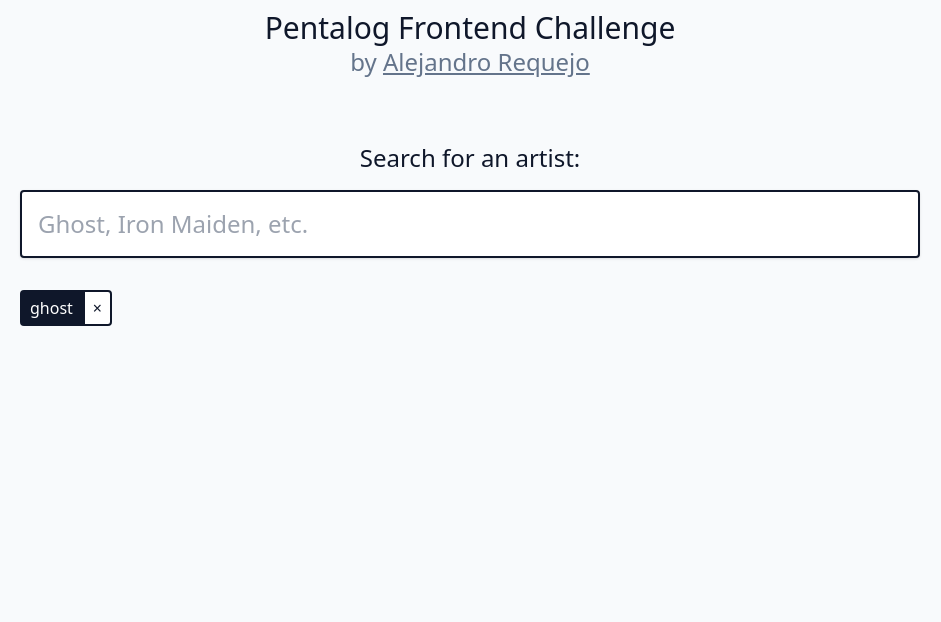
Test: <App /> › shows a message when no releases are found
This screenshot has width=941, height=622.
Type "ghost" into the field labelled "Search for an artist:" at (470, 224), box left=20, top=190, right=920, bottom=258
Then press Enter
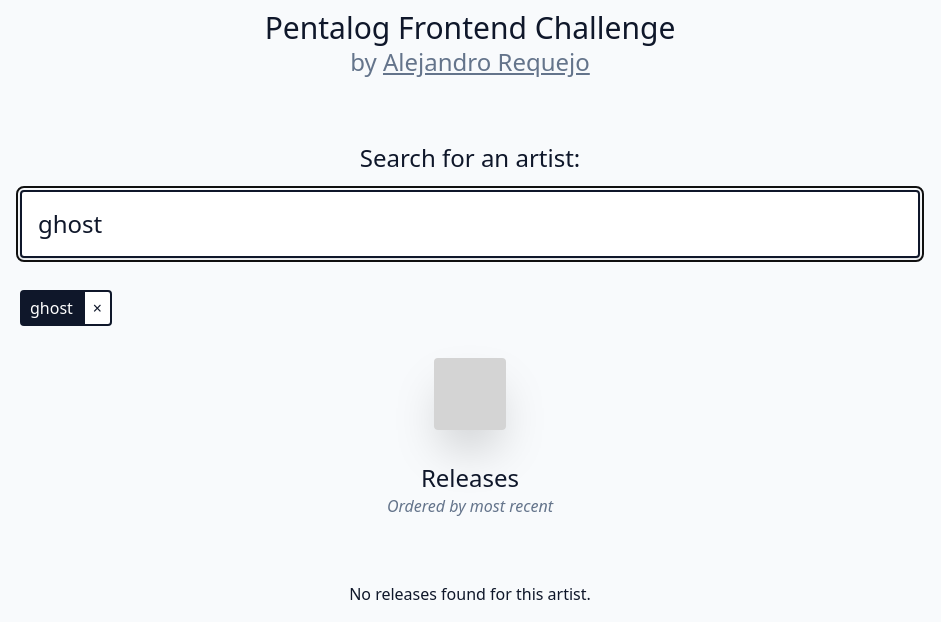
Result: the text "No releases found for this artist." is shown at left=349, top=583, right=591, bottom=605
